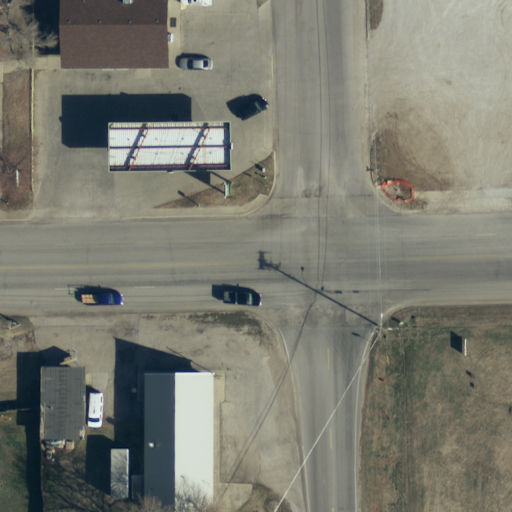DT: (370, 312, 394, 346)
